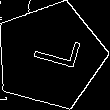L_W: (20, 34, 79, 77)
